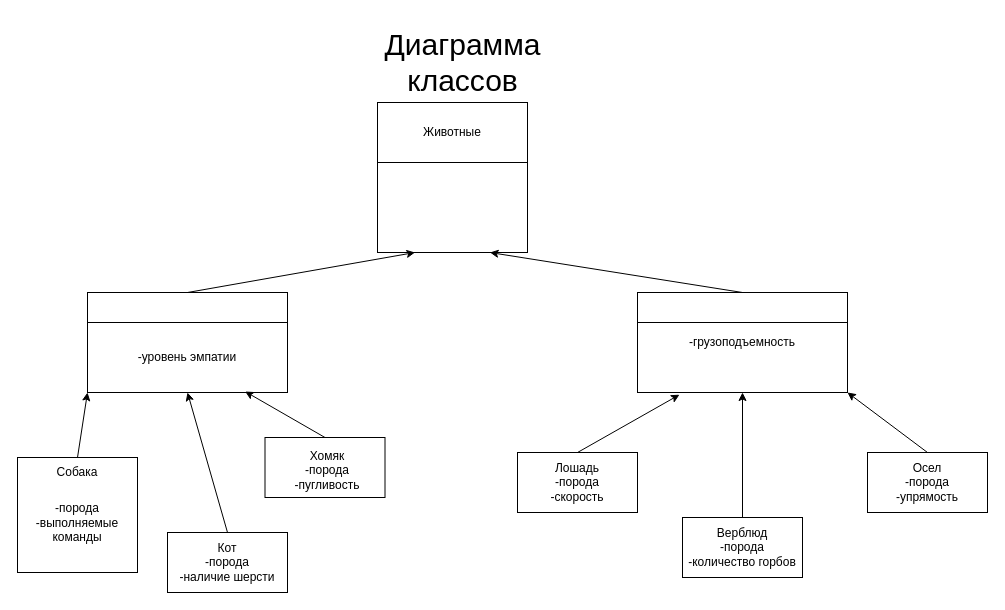
Some shapes in this 1005 by 610 pixel diagram are drawn without their labels. Here are the shapes that lost their labels. From the top down, the centre of each, then its label:
At [452,207]: "-имя -дата рождения".
At [187,307]: "Pet".
At [742,307]: "Pack animal".
